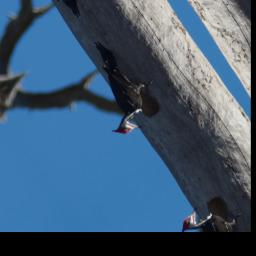Woodpecker: (65, 26, 173, 144)
